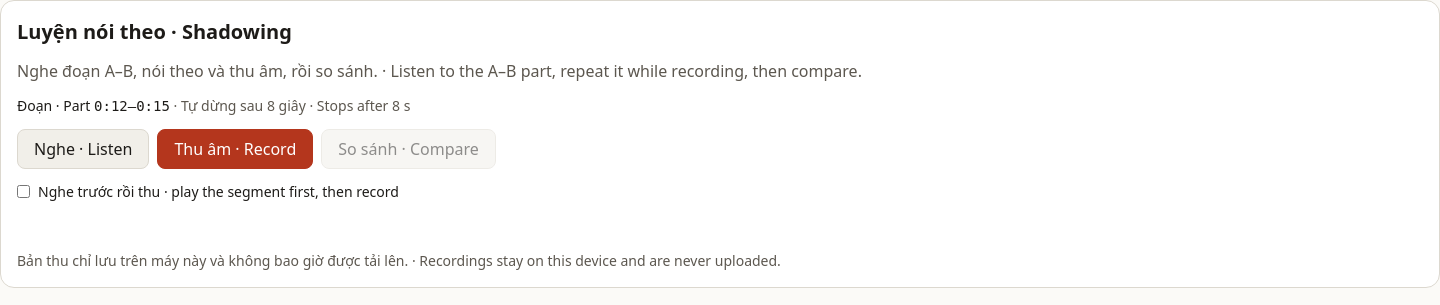
PracticePanel › Listen seeks to A and plays the segment
The image size is (1440, 305).
Click the button "Nghe · Listen". click: {"x": 83, "y": 149}
box: [17,129,149,169]
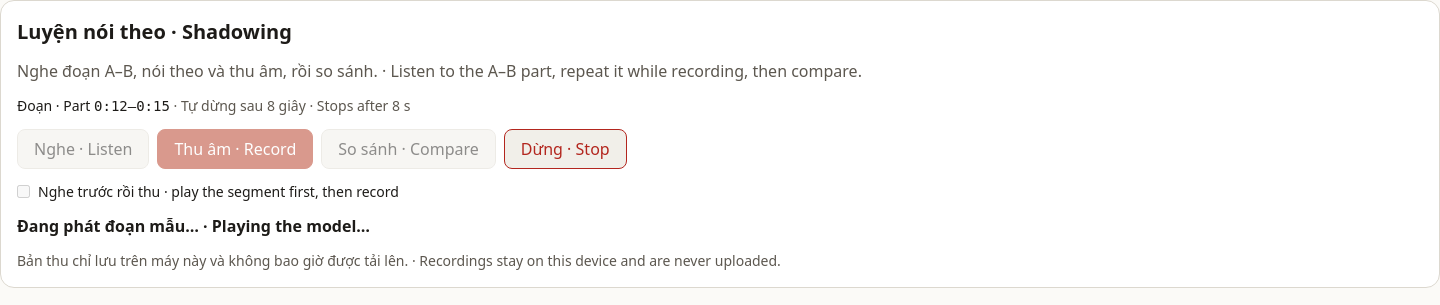
Now the text "Đang phát đoạn mẫu… · Playing the model…" is shown, box [17,215,370,237]
Now the button "Nghe · Listen" is disabled, box [17,129,149,169]
Click the button "Dừng · Stop". click: {"x": 565, "y": 149}
box: [504,129,627,169]
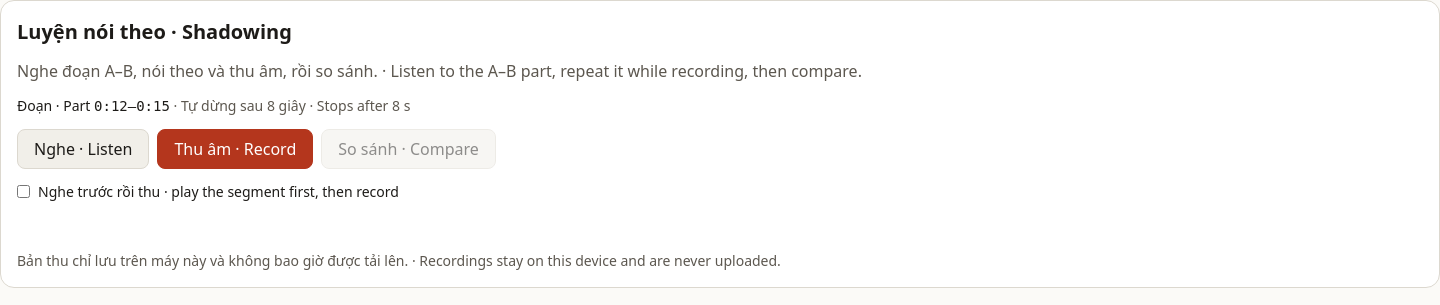
Now the button "Nghe · Listen" is enabled, box [17,129,149,169]
